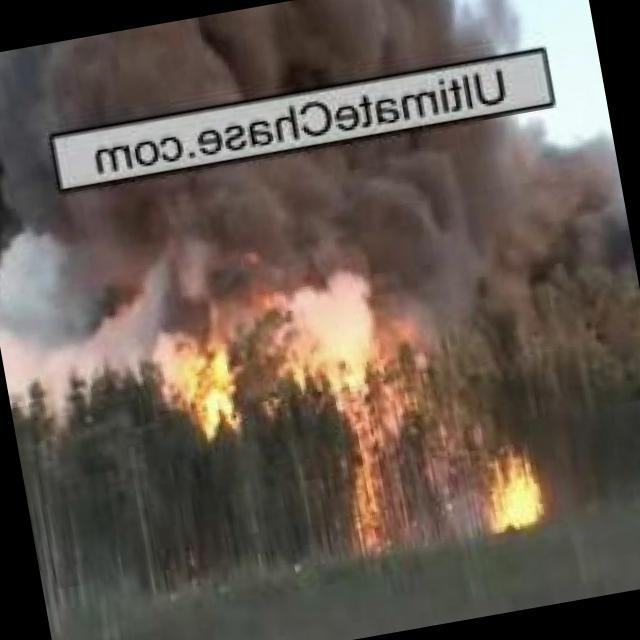Fire: (324, 401, 409, 558), (165, 333, 248, 446), (464, 446, 549, 538)
